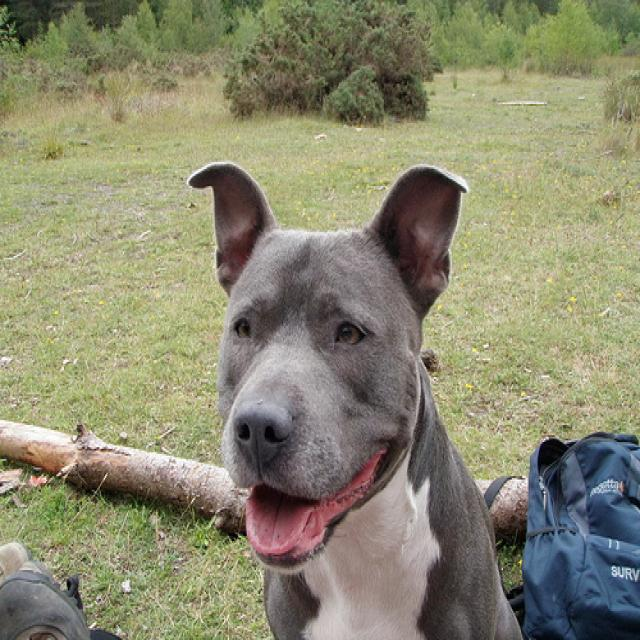dog-staffordshire_bull_terrier: (182, 155, 529, 637)
